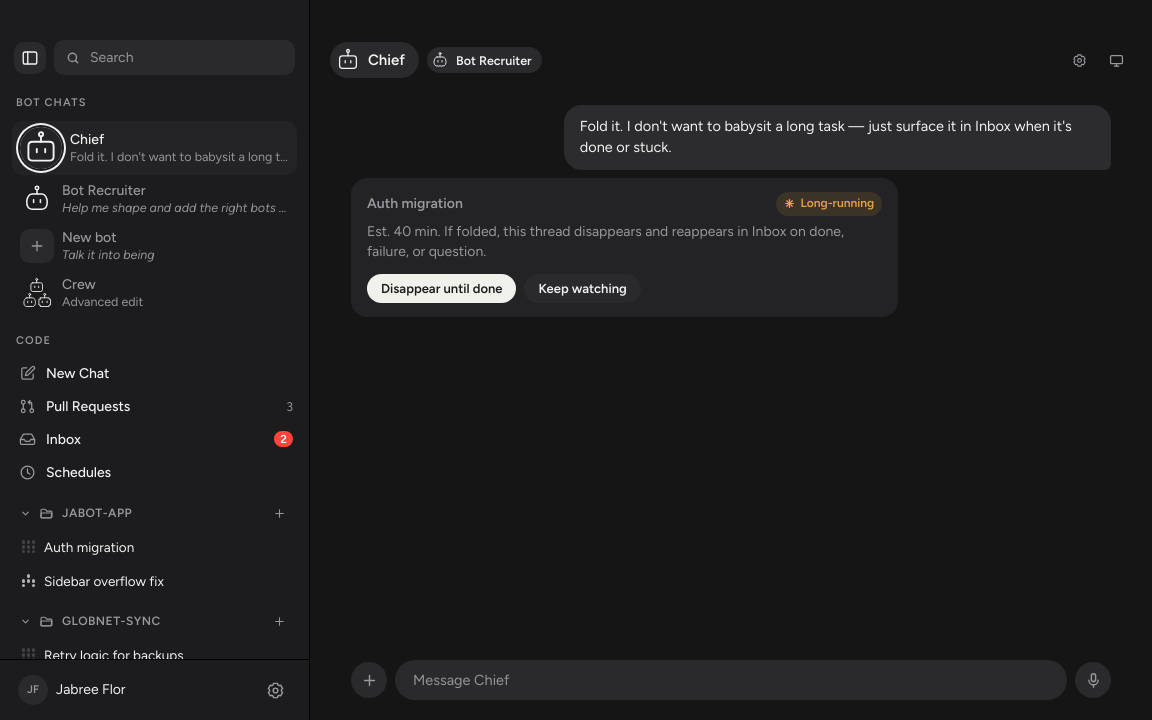
Test: App › opens a code thread with its harness and its transcript
(page scrolled)
expect the button named "Settings" is shown: met, box [259, 674, 291, 706]
Click the button "Auth migration" at (89, 547), box [14, 531, 295, 563]
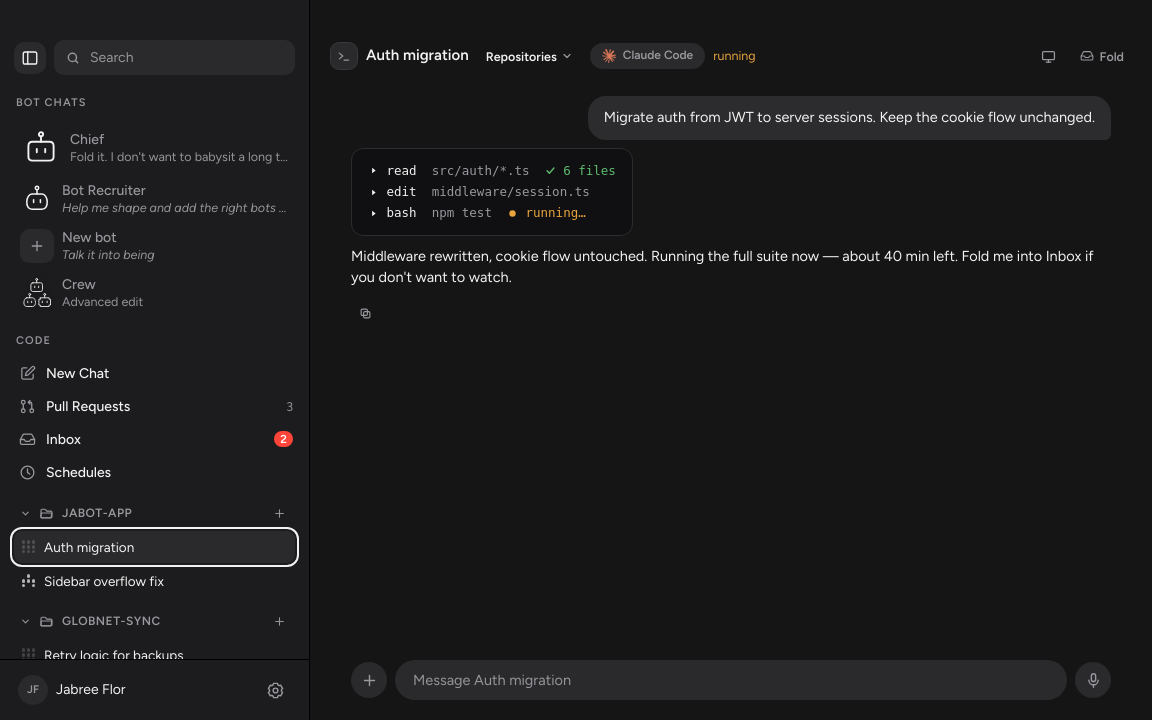
expect the text "Claude Code" is shown: met, box [590, 43, 705, 69]
expect the text "Middleware rewritten" is shown: met, box [351, 247, 1094, 286]
expect the text "bash npm test running…" is shown: met, box [368, 202, 616, 224]
